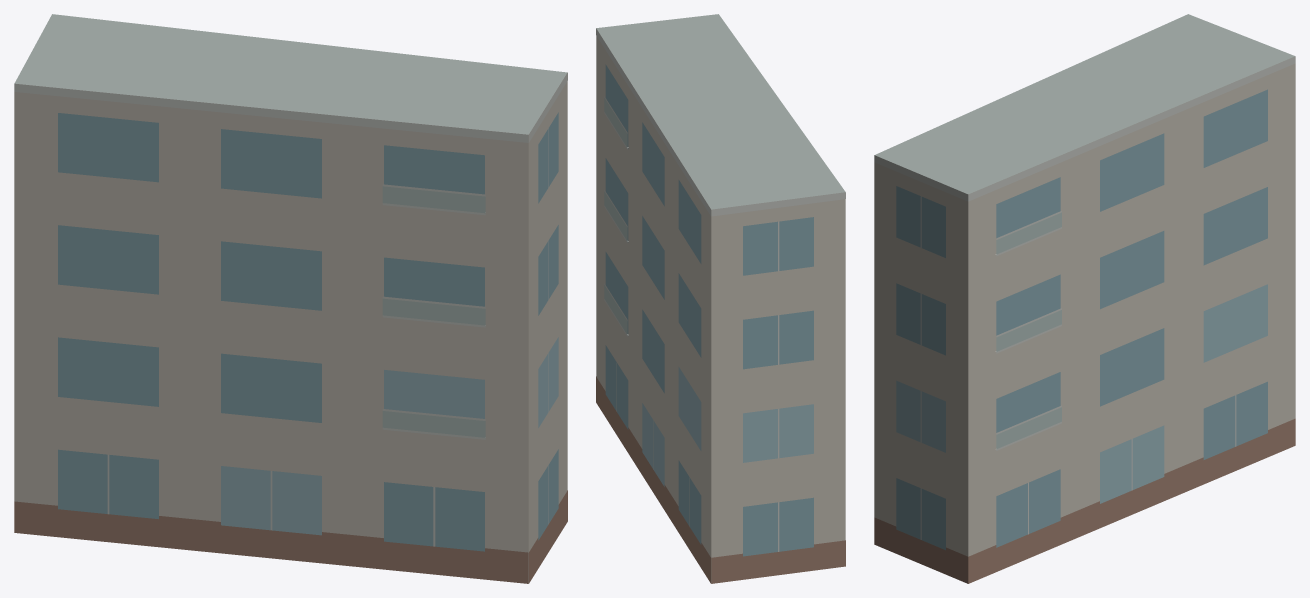
Rendered from survey-upis-32915926.glb.
3 renders of one model, left to right at view 1: azimuth 30°, elevation 25°; view 2: azimuth 150°, elevation 25°; view 3: azimuth 270°, elevation 25°, orthographic. The views are drawn at different scales.
Parts seen in each view (by area): view 1: survey-upis-32915926.tmp; view 2: survey-upis-32915926.tmp; view 3: survey-upis-32915926.tmp.
Part boxes in pixels (<box>): survey-upis-32915926.tmp: <box>14,14,567,583</box>; survey-upis-32915926.tmp: <box>596,14,845,583</box>; survey-upis-32915926.tmp: <box>874,14,1295,583</box>.
Bounding box in the file's own units: 13.12 × 13.2 × 12.94.
